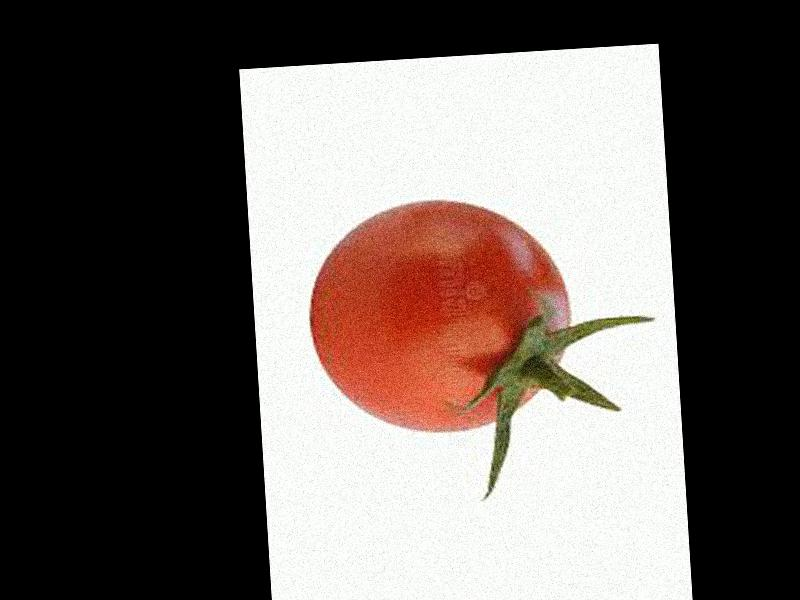Tomato: (302, 192, 575, 437)
